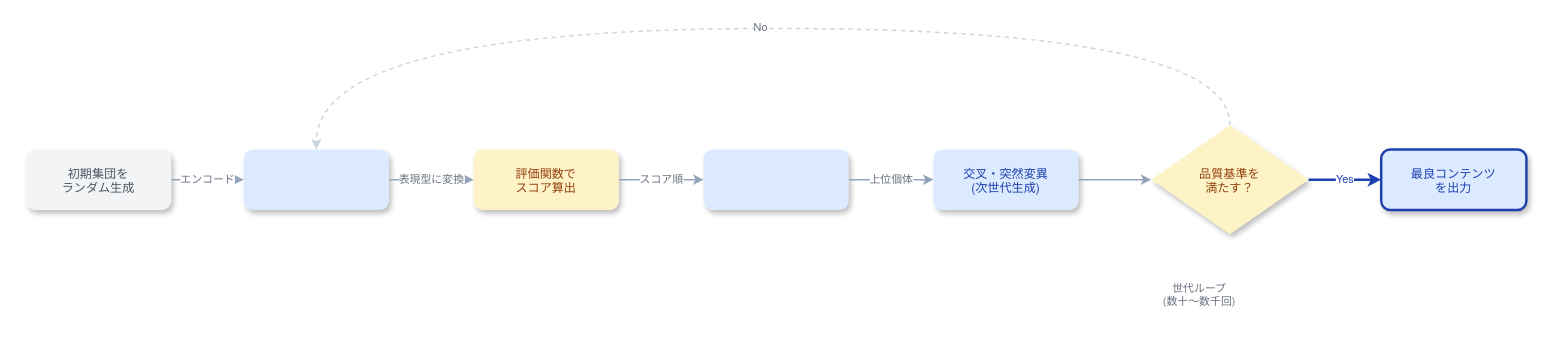
Some shapes in this 1555 by 340 pixel diagram are drawn without their labels. Each missing label, with the centre of its shape:
"コンテンツ表現 (遺伝子型)" goes at [317,181].
"適応度に基づく 選択" goes at [776,181].
